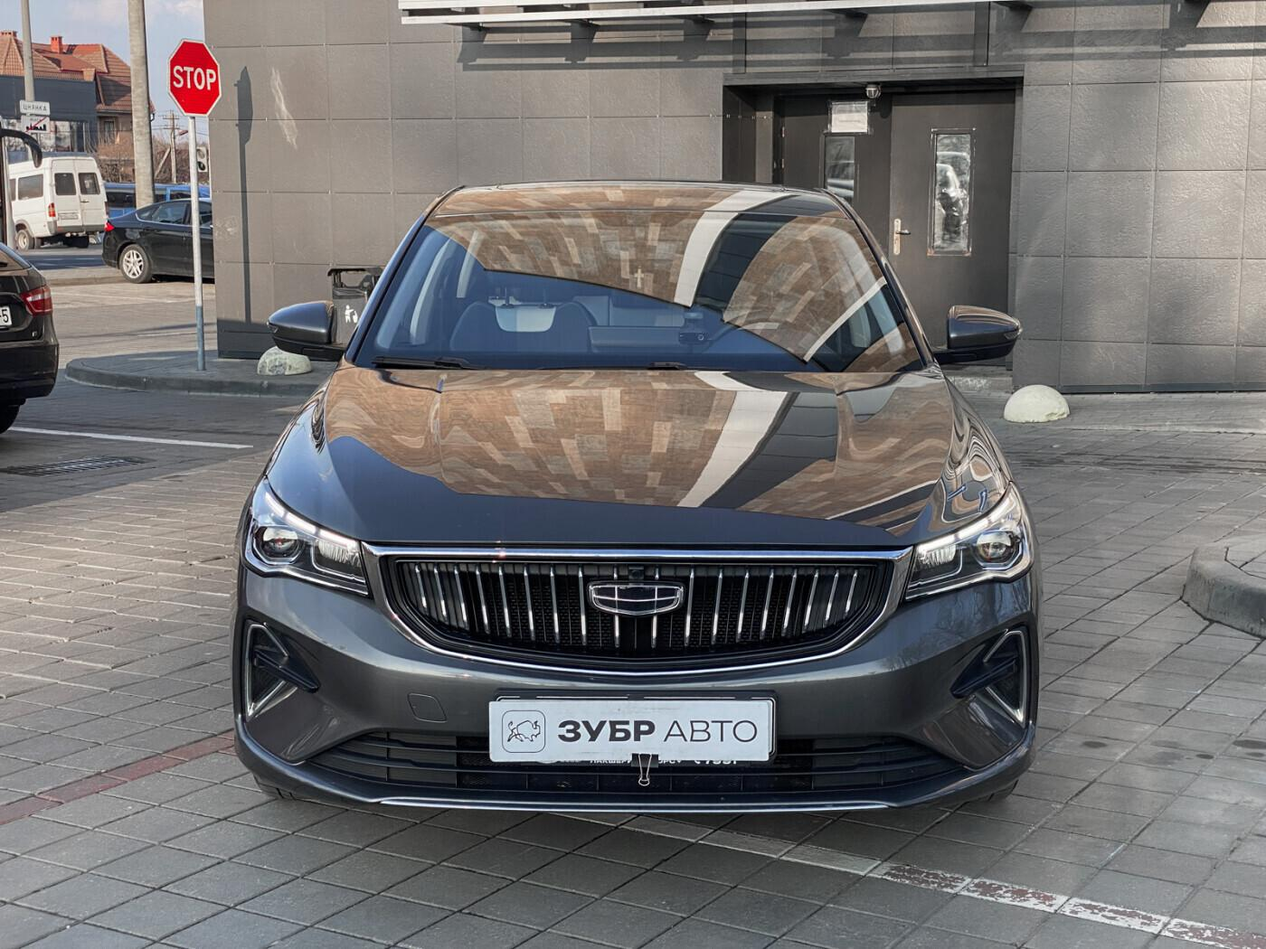Emgrand_2021: (229, 174, 1053, 839)
